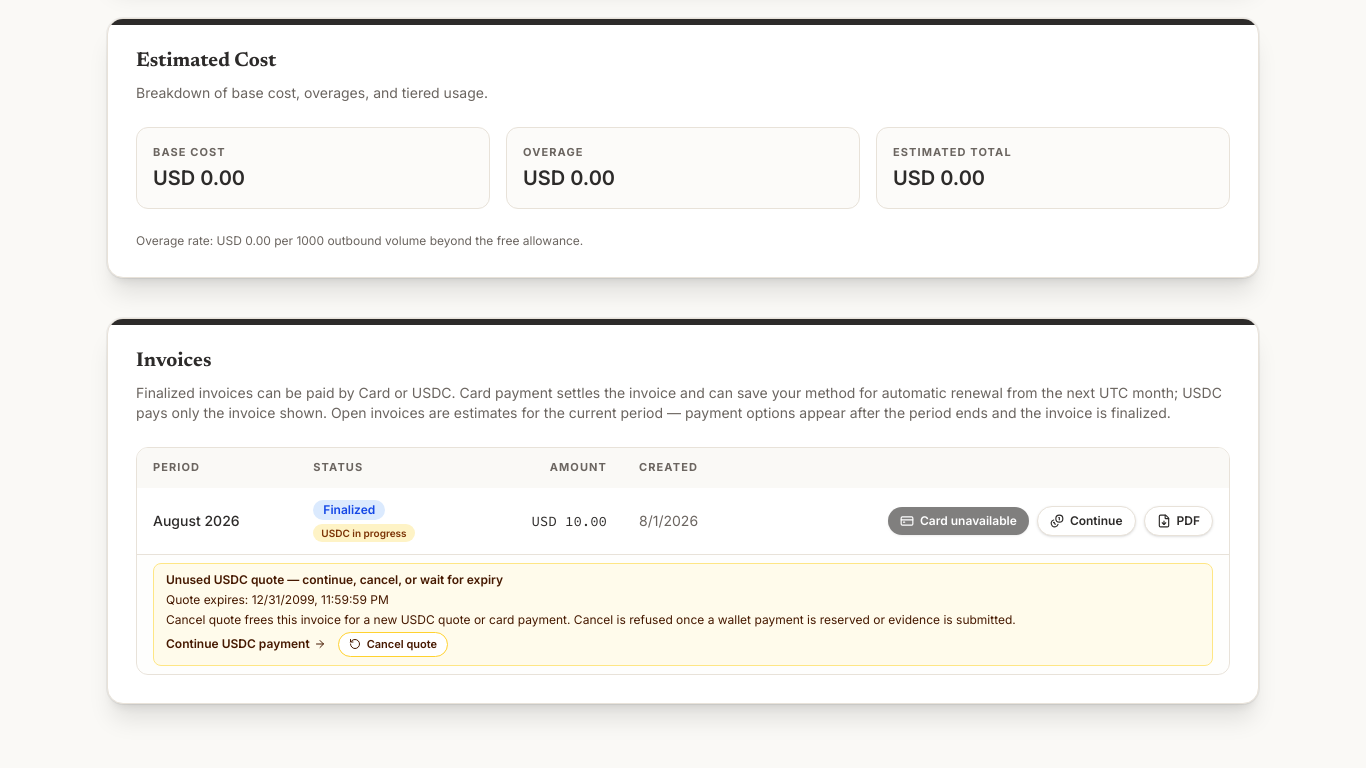
Billing — BILL-018 payment status recovery and BILL-003 card lock › USDC_CANCEL_NOT_ALLOWED shows conflict notice and refreshes payment status
The image size is (1366, 768).
(page scrolled)
Click the button with aria-label "Cancel unused USDC quote".
click(393, 644)  # box [338, 632, 448, 657]
(page scrolled)
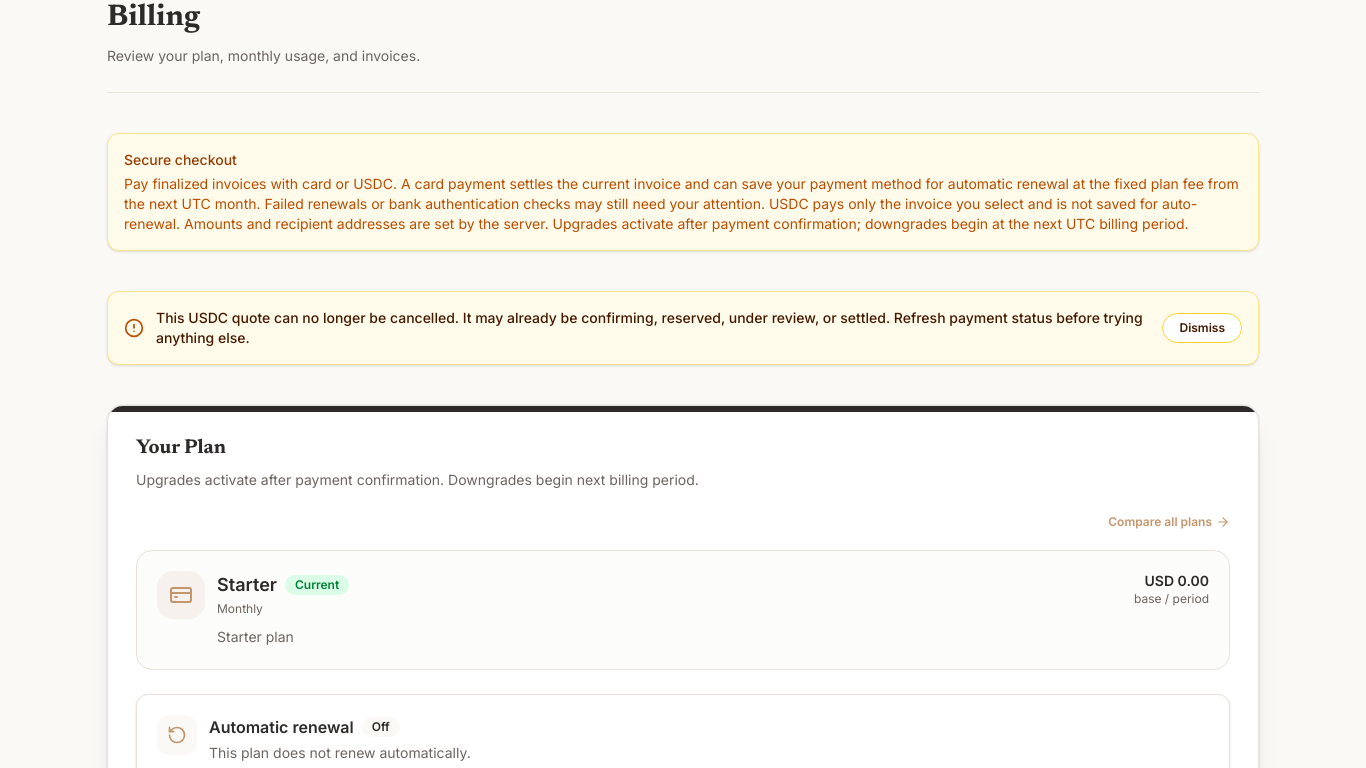
Result: the text "can no longer be cancelled" is shown at [156, 309, 1143, 346]
